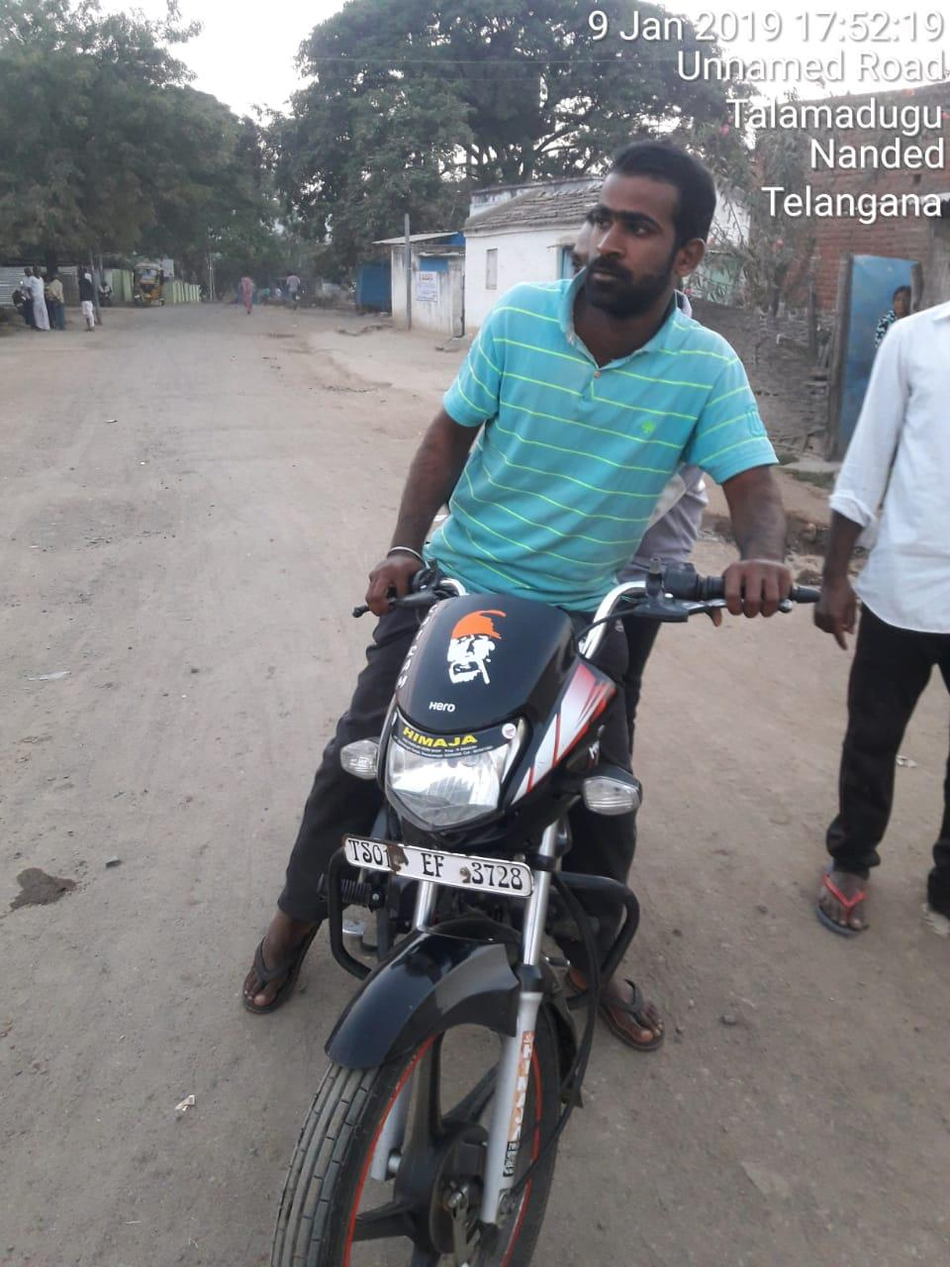plate: (336, 827, 542, 922)
